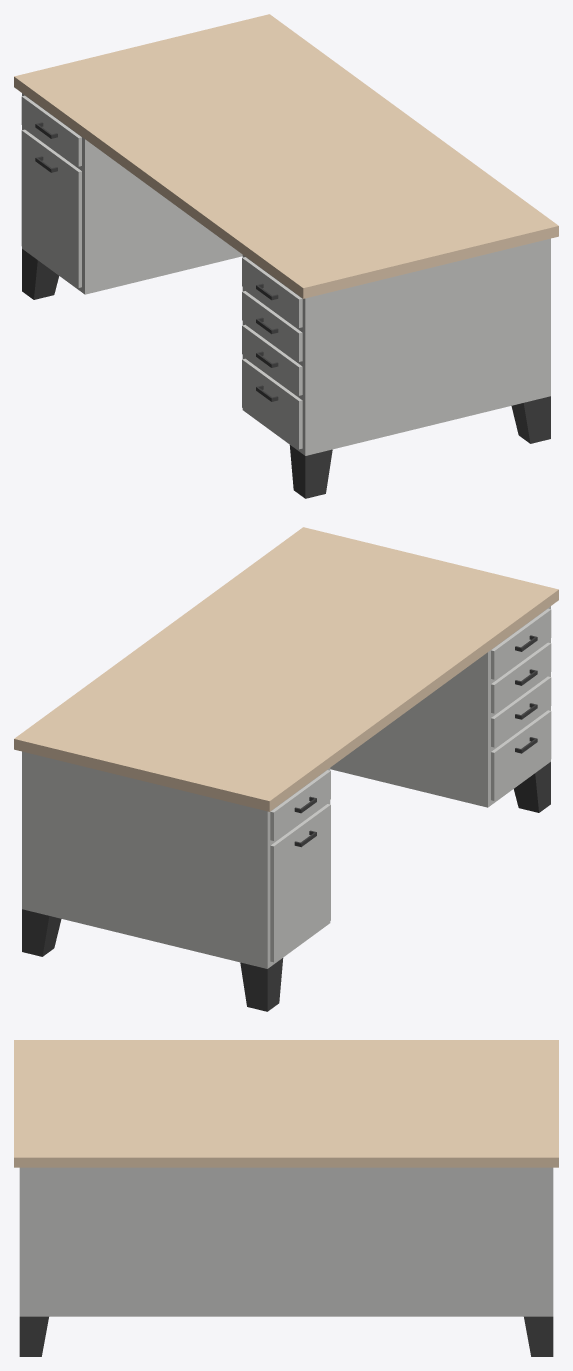
The model's file is Workdesk.fbx.
3 renders of one model, top to bottom at view 1: azimuth 30°, elevation 25°; view 2: azimuth 150°, elevation 25°; view 3: azimuth 270°, elevation 25°, orthographic. The views are drawn at different scales.
Visible parts, largest first — view 1: Workdesk; view 2: Workdesk; view 3: Workdesk.
Boxes of the visible parts, <box> form: Workdesk: <box>14,14,558,498</box>; Workdesk: <box>14,527,558,1011</box>; Workdesk: <box>14,1040,558,1356</box>.
Bounding box in the file's own units: 97.16 × 76.2 × 187.
